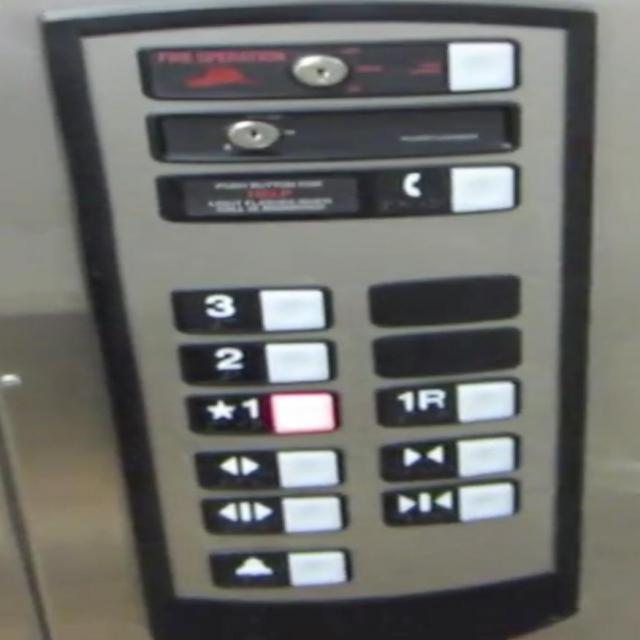1R: (369, 372, 527, 430)
2: (171, 337, 343, 389)
3: (164, 284, 335, 337)
alarm: (202, 546, 359, 594)
call: (348, 159, 526, 223)
close: (370, 430, 526, 485), (374, 475, 524, 530)
empty: (366, 34, 525, 100)
hat: (136, 39, 355, 102)
keyhole: (138, 108, 304, 166)
open: (185, 446, 348, 494), (194, 492, 352, 538)
s1: (180, 388, 344, 439)
